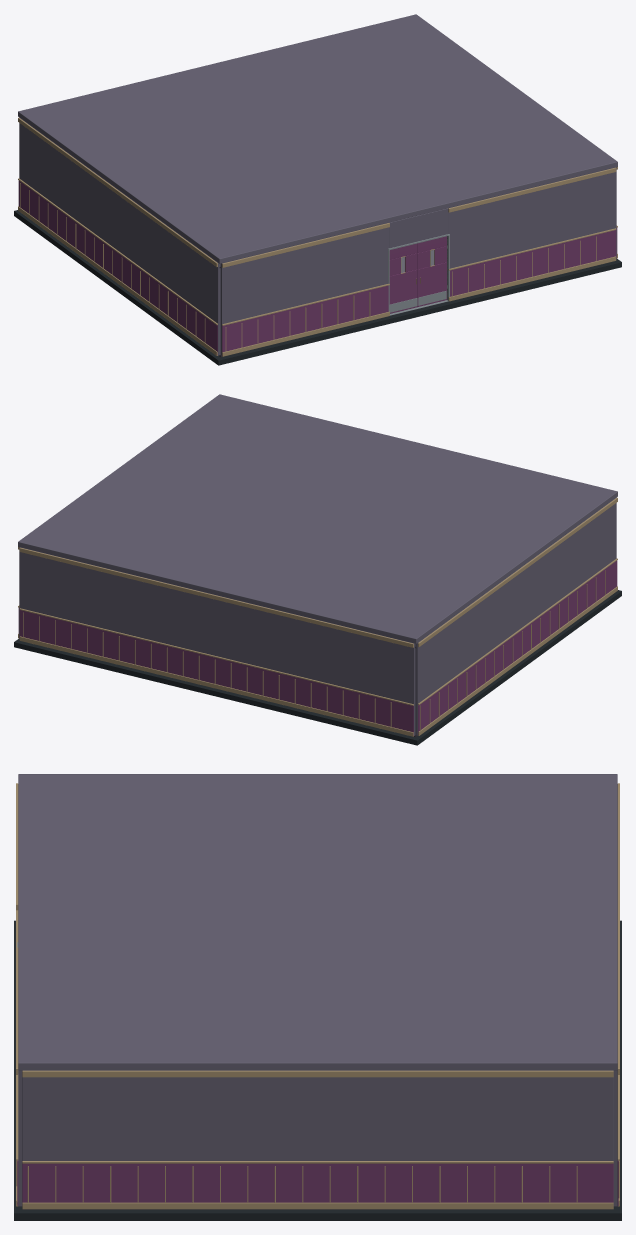
Rendered from studio.glb.
The picture shows the model from 3 angles, top to bottom: view 1: azimuth 30°, elevation 25°; view 2: azimuth 150°, elevation 25°; view 3: azimuth 270°, elevation 25°; orthographic projection. The views are drawn at different scales.
Parts seen in each view (by area): view 1: CDS_absorber binding; view 2: CDS_absorber binding; view 3: CDS_absorber binding.
Boxes of the visible parts, <box> form: CDS_absorber binding: <box>14,14,621,365</box>; CDS_absorber binding: <box>14,394,621,745</box>; CDS_absorber binding: <box>14,774,621,1220</box>.
Bounding box in the file's own units: 16.4 × 4.08 × 14.4.
11 materials, 11 textured.
